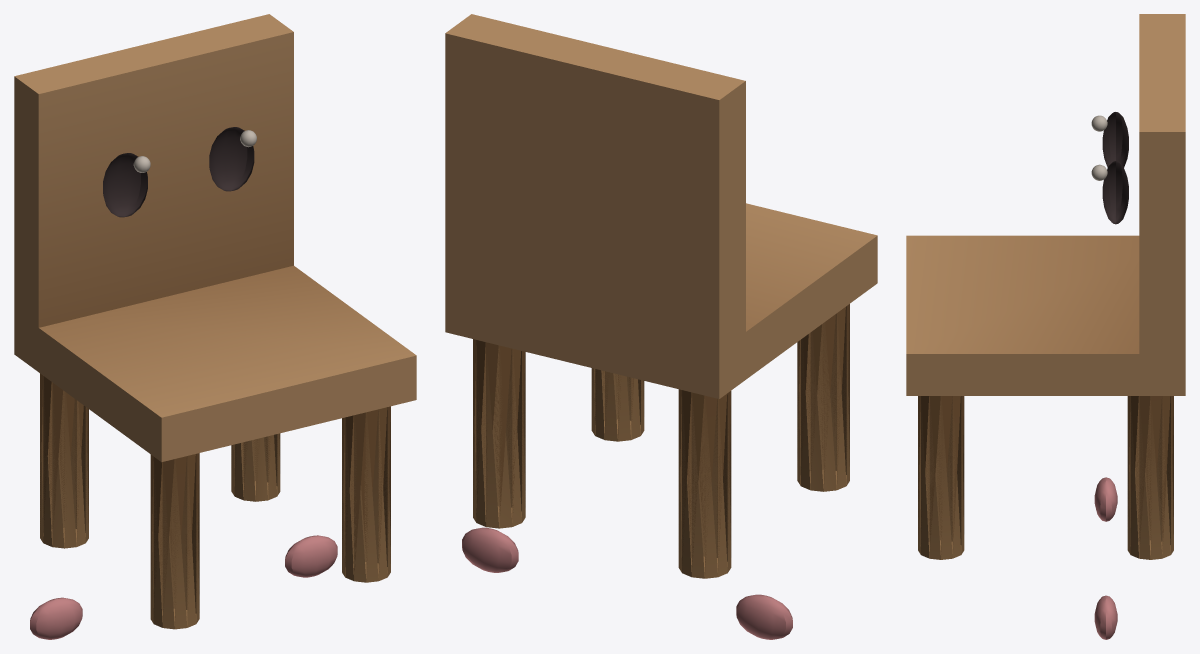
3 renders of one model, left to right at view 1: azimuth 30°, elevation 25°; view 2: azimuth 150°, elevation 25°; view 3: azimuth 270°, elevation 25°, orthographic. The views are drawn at different scales.
Visible parts, largest first — view 1: pet_p1a56aa57; view 2: pet_p1a56aa57; view 3: pet_p1a56aa57.
Part boxes in pixels (x1,y1,x2,y2): pet_p1a56aa57: (14,14,416,639); pet_p1a56aa57: (445,14,877,639); pet_p1a56aa57: (906,14,1185,639).
Bounding box in the file's own units: 0.2896 × 0.4776 × 0.24.
